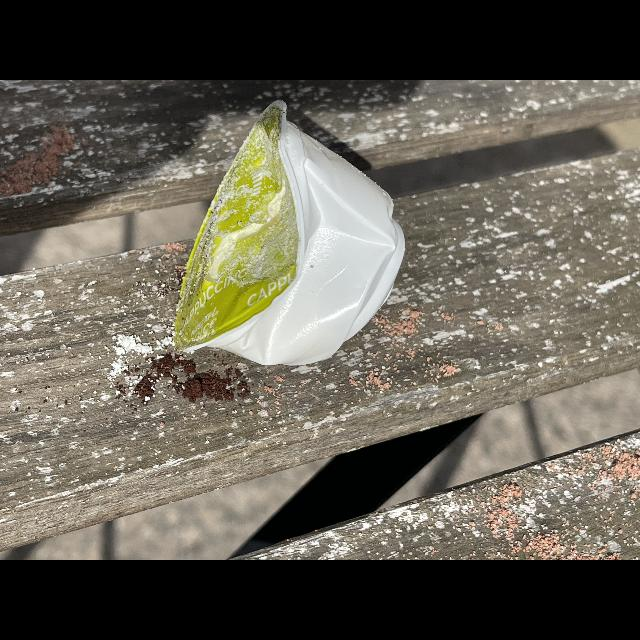damaged_capsule: (158, 95, 412, 389)
